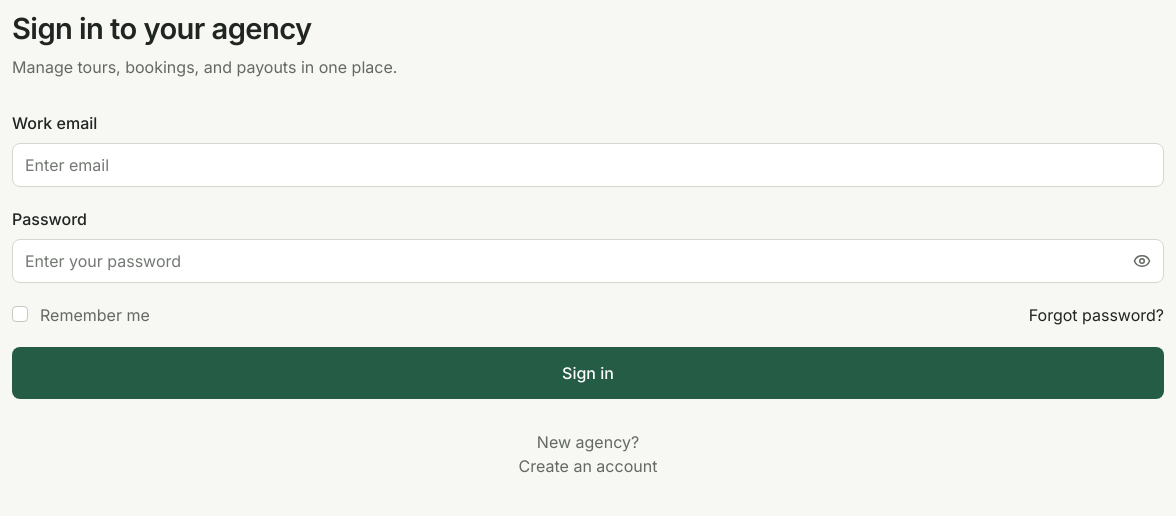
Scenario: LoginForm › rejects an invalid email
Type "not-an-email" into the field labelled "Work email" at (588, 165), box [25,147,1151,183]
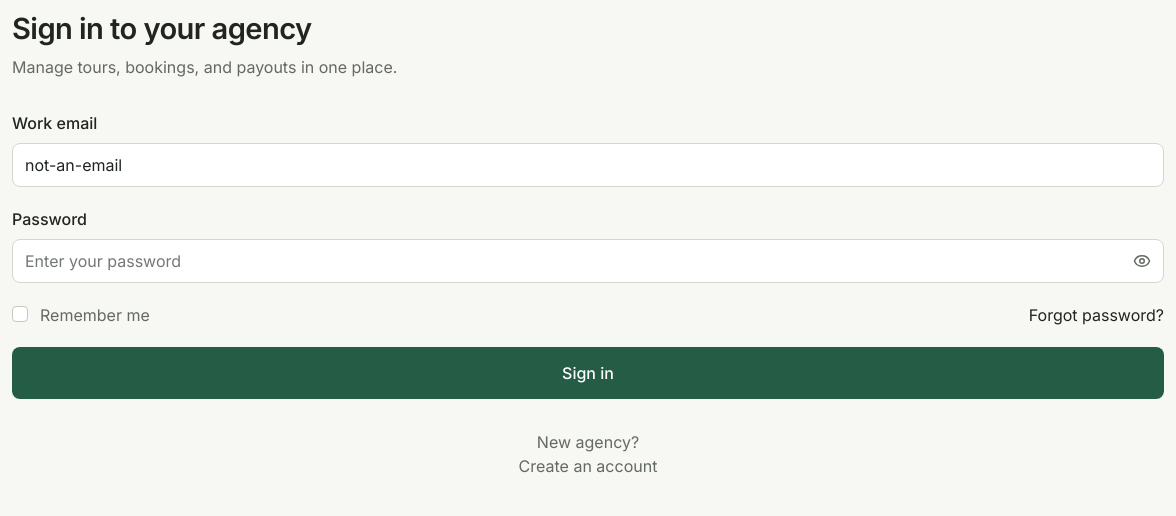
Type "secret123" into the password field labelled "Password" at (575, 261), box [25,243,1125,279]
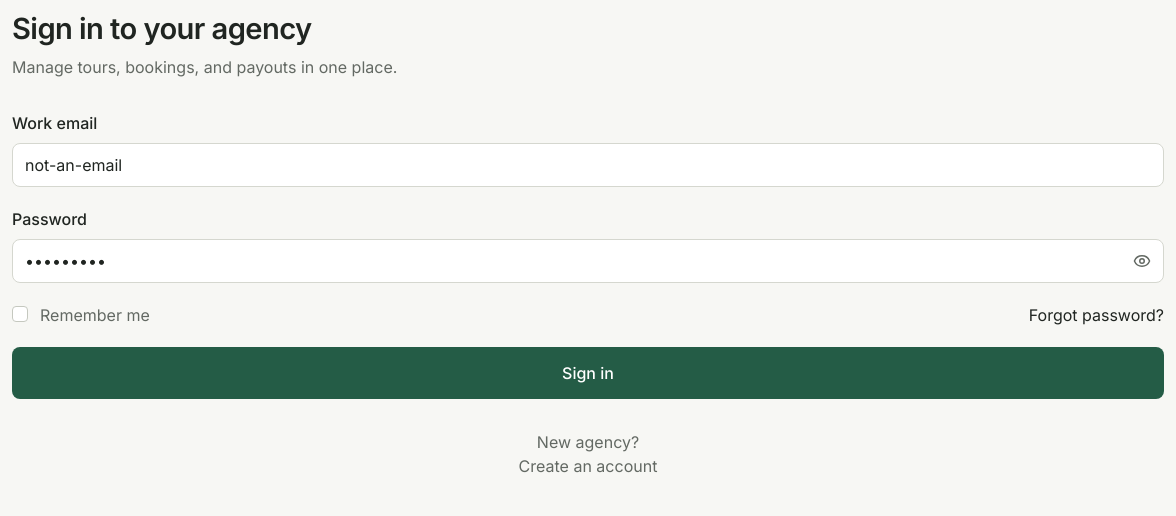
Click the button "Sign in" at (588, 373), box [12,347,1164,399]
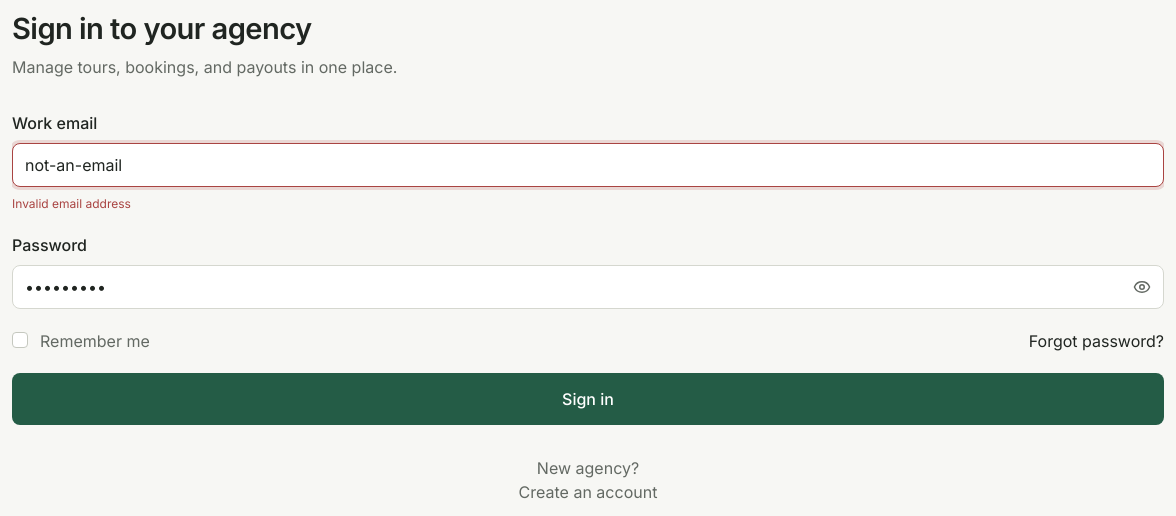
Now the text "Invalid email address" is shown, box [12,196,131,211]
